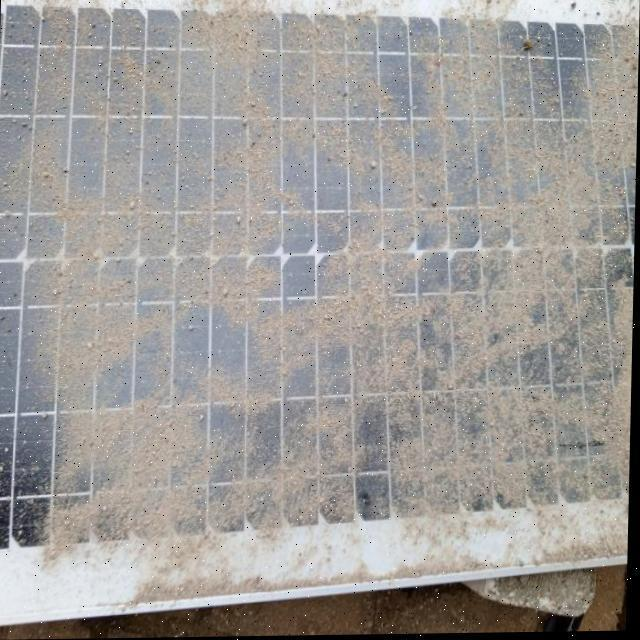Surface Contaminant: (18, 0, 640, 551)
